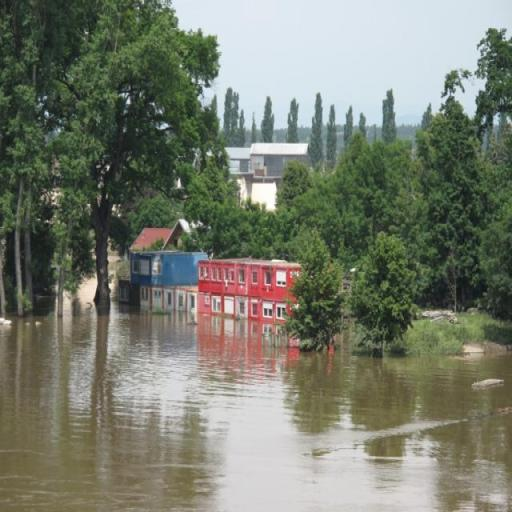flood: (0, 276, 512, 512)
house: (198, 257, 296, 324), (130, 248, 202, 319), (248, 139, 308, 177), (132, 220, 190, 250)
